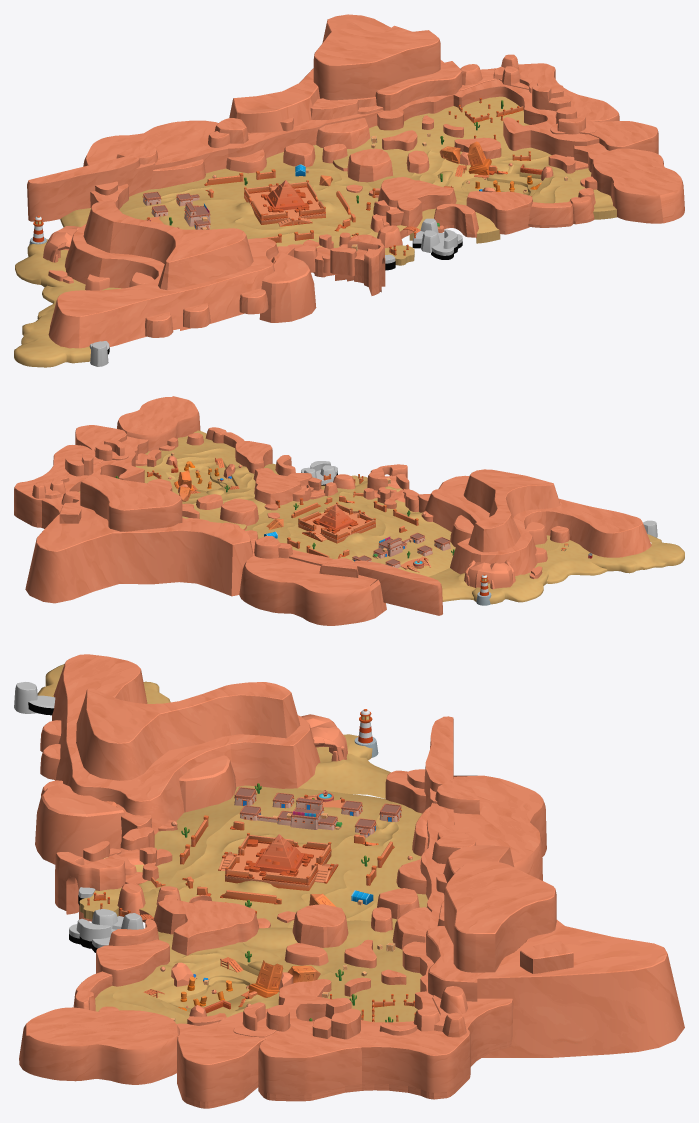
Rendered from Desert_Island_V4.fbx.
3 renders of one model, top to bottom at view 1: azimuth 30°, elevation 25°; view 2: azimuth 150°, elevation 25°; view 3: azimuth 270°, elevation 25°, orthographic. The views are drawn at different scales.
Parts seen in each view (by area): view 1: polySurface3119; view 2: polySurface3119; view 3: polySurface3119.
Boxes of the visible parts, x1,y1,x2,y2 form: polySurface3119: (14, 14, 684, 367); polySurface3119: (14, 396, 684, 625); polySurface3119: (14, 654, 684, 1108).
Bounding box in the file's own units: 170 × 21.08 × 110.
